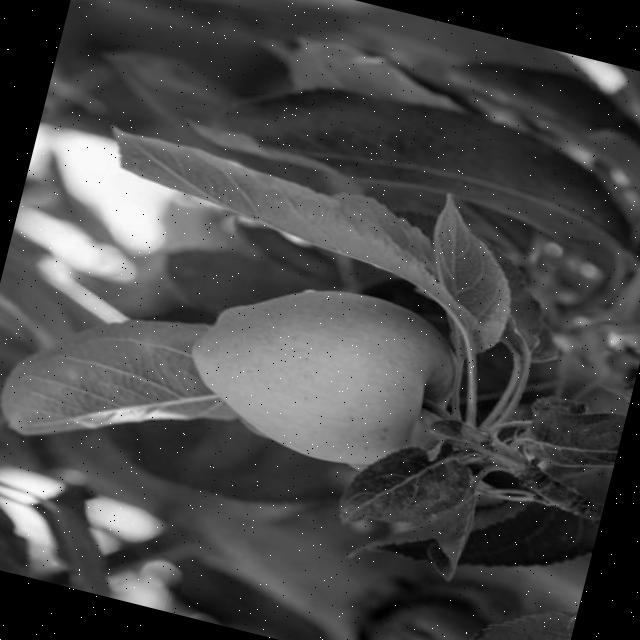Unripe: (174, 255, 476, 486)
